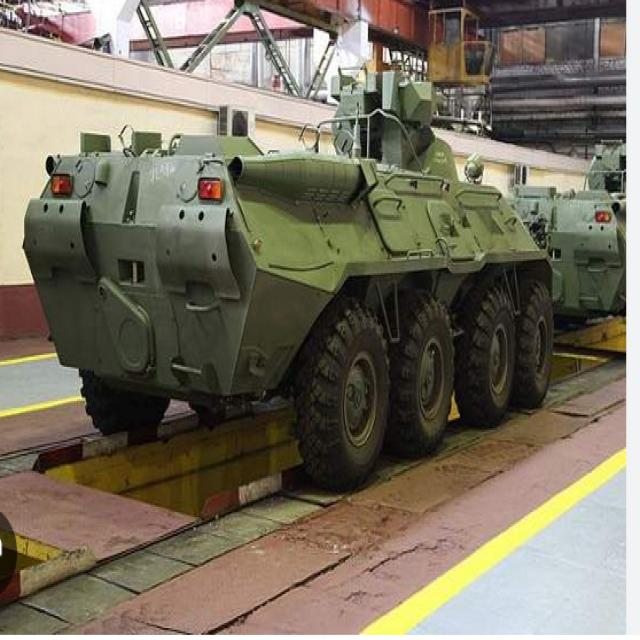MIL_APC: (16, 110, 575, 478)
